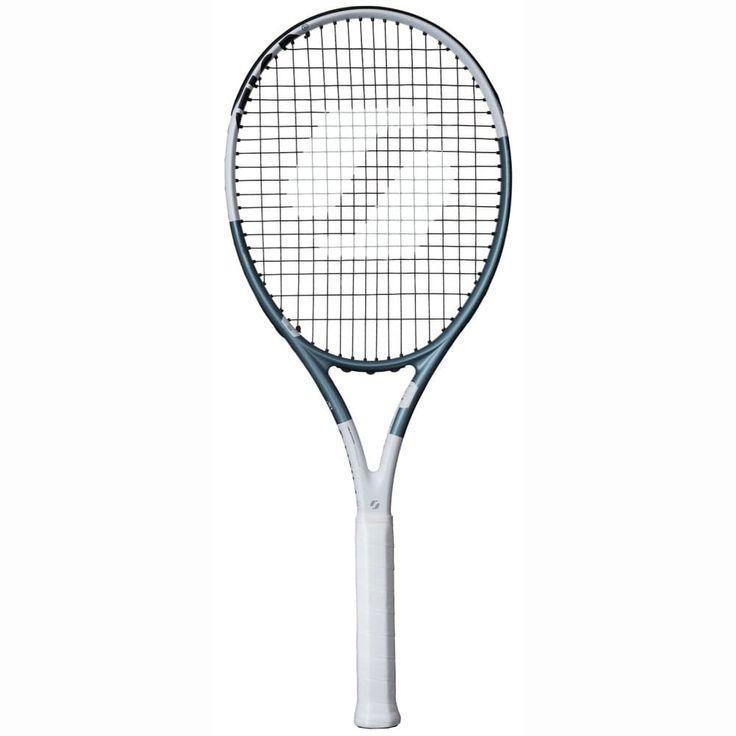Tennis-Racket: (224, 8, 510, 723)
